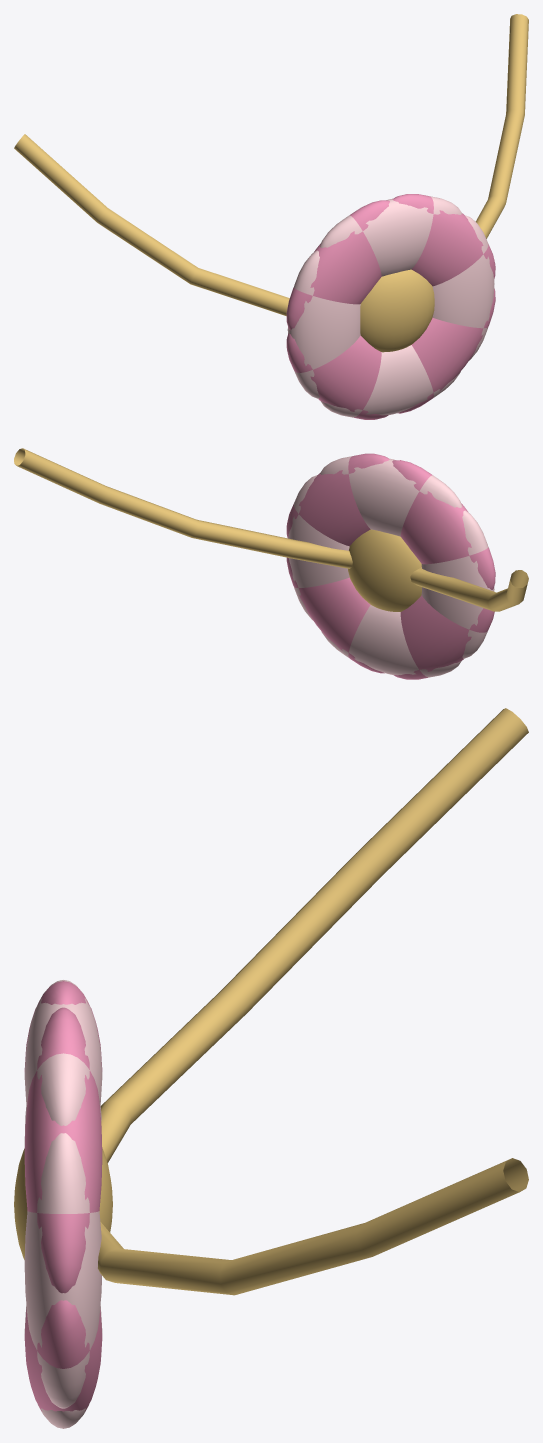
File: lotus.glb
3 views of the same model, one above another, from view 1: azimuth 30°, elevation 25°; view 2: azimuth 150°, elevation 25°; view 3: azimuth 270°, elevation 25° (orthographic). The views are drawn at different scales.
Parts seen in each view (by area): view 1: Lotus_Neck_Cord, Lotus_Petal_3, Lotus_Center, Lotus_Petal_4, Lotus_Petal_2, Lotus_Petal_5, Lotus_Petal_1, Lotus_Petal_6, Lotus_Petal_0, Lotus_Petal_7; view 2: Lotus_Neck_Cord, Lotus_Petal_3, Lotus_Petal_2, Lotus_Center, Lotus_Petal_1, Lotus_Petal_5, Lotus_Petal_6, Lotus_Petal_4, Lotus_Petal_7, Lotus_Petal_0; view 3: Lotus_Neck_Cord, Lotus_Petal_1, Lotus_Petal_0, Lotus_Petal_2, Lotus_Petal_7, Lotus_Center, Lotus_Petal_3.
Part boxes in pixels (x1=…): Lotus_Neck_Cord: x1=14, y1=14, x2=528, y2=316; Lotus_Petal_3: x1=286, y1=200, x2=389, y2=330; Lotus_Center: x1=360, y1=269, x2=434, y2=352; Lotus_Petal_4: x1=287, y1=250, x2=360, y2=398; Lotus_Petal_2: x1=320, y1=196, x2=462, y2=276; Lotus_Petal_5: x1=286, y1=333, x2=388, y2=419; Lotus_Petal_1: x1=392, y1=194, x2=495, y2=286; Lotus_Petal_6: x1=320, y1=345, x2=460, y2=417; Lotus_Petal_0: x1=432, y1=215, x2=494, y2=360; Lotus_Petal_7: x1=397, y1=288, x2=495, y2=413; Lotus_Neck_Cord: x1=14, y1=448, x2=528, y2=611; Lotus_Petal_3: x1=392, y1=460, x2=495, y2=589; Lotus_Petal_2: x1=320, y1=456, x2=462, y2=536; Lotus_Center: x1=348, y1=529, x2=421, y2=611; Lotus_Petal_1: x1=286, y1=453, x2=389, y2=546; Lotus_Petal_5: x1=393, y1=595, x2=494, y2=679; Lotus_Petal_6: x1=321, y1=605, x2=461, y2=677; Lotus_Petal_4: x1=421, y1=510, x2=494, y2=658; Lotus_Petal_7: x1=286, y1=557, x2=384, y2=673; Lotus_Petal_0: x1=288, y1=475, x2=349, y2=620; Lotus_Neck_Cord: x1=98, y1=708, x2=528, y2=1295; Lotus_Petal_1: x1=24, y1=1007, x2=102, y2=1293; Lotus_Petal_0: x1=24, y1=1133, x2=101, y2=1408; Lotus_Petal_2: x1=24, y1=980, x2=102, y2=1125; Lotus_Petal_7: x1=24, y1=1300, x2=102, y2=1411; Lotus_Center: x1=14, y1=1148, x2=112, y2=1259; Lotus_Petal_3: x1=24, y1=981, x2=102, y2=1071.
Size of the model in its own units: 1.56 by 0.7353 by 0.7282.
